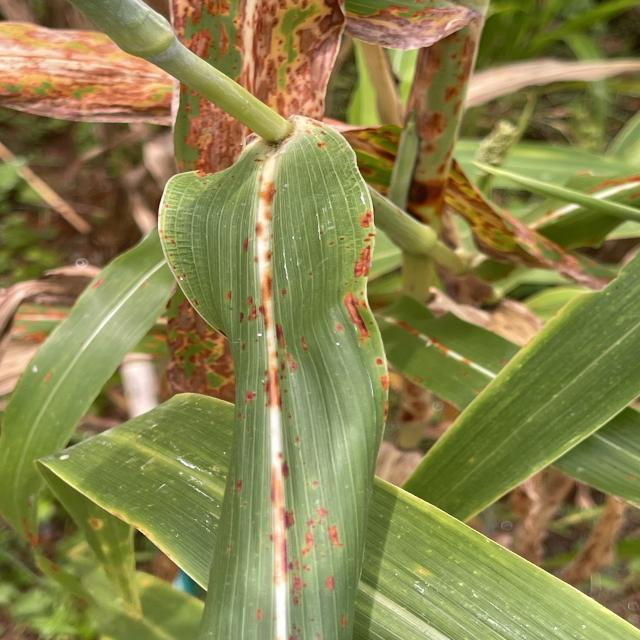millet_rust: (153, 113, 414, 640)
